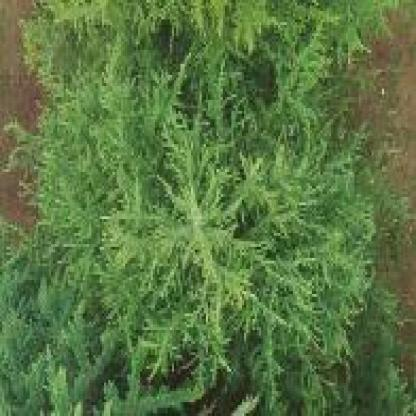Coniferous Tree: (1, 3, 377, 416)
